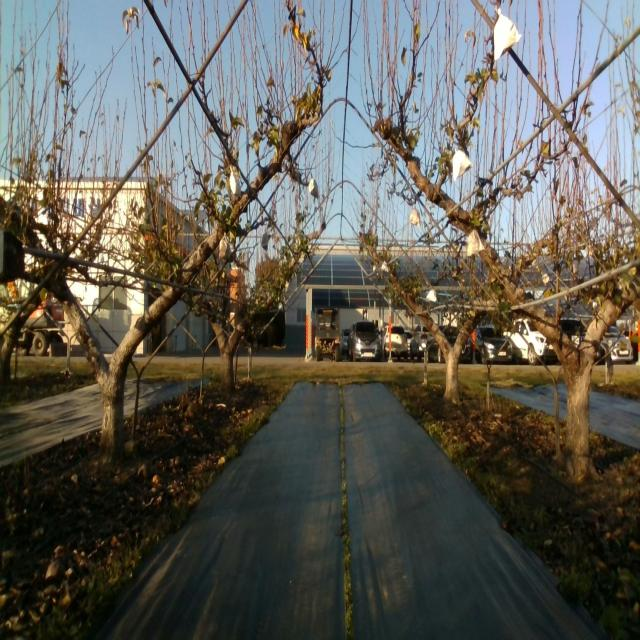pearbags: (493, 11, 522, 60), (452, 149, 473, 181), (468, 230, 484, 258), (230, 163, 242, 196), (218, 231, 230, 260), (408, 206, 421, 226)
